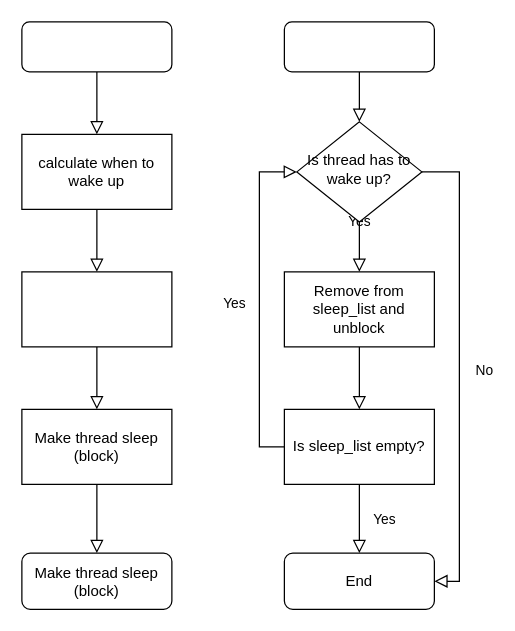
Some shapes in this 515 by 631 pixel diagram are drawn without their labels. Each missing label, with the centre of its shape:
insert thread into sleep_list by wake up time ordering: point 96,309
timer_interrupt() called: point 358,46
timer_sleep() called: point 96,46
